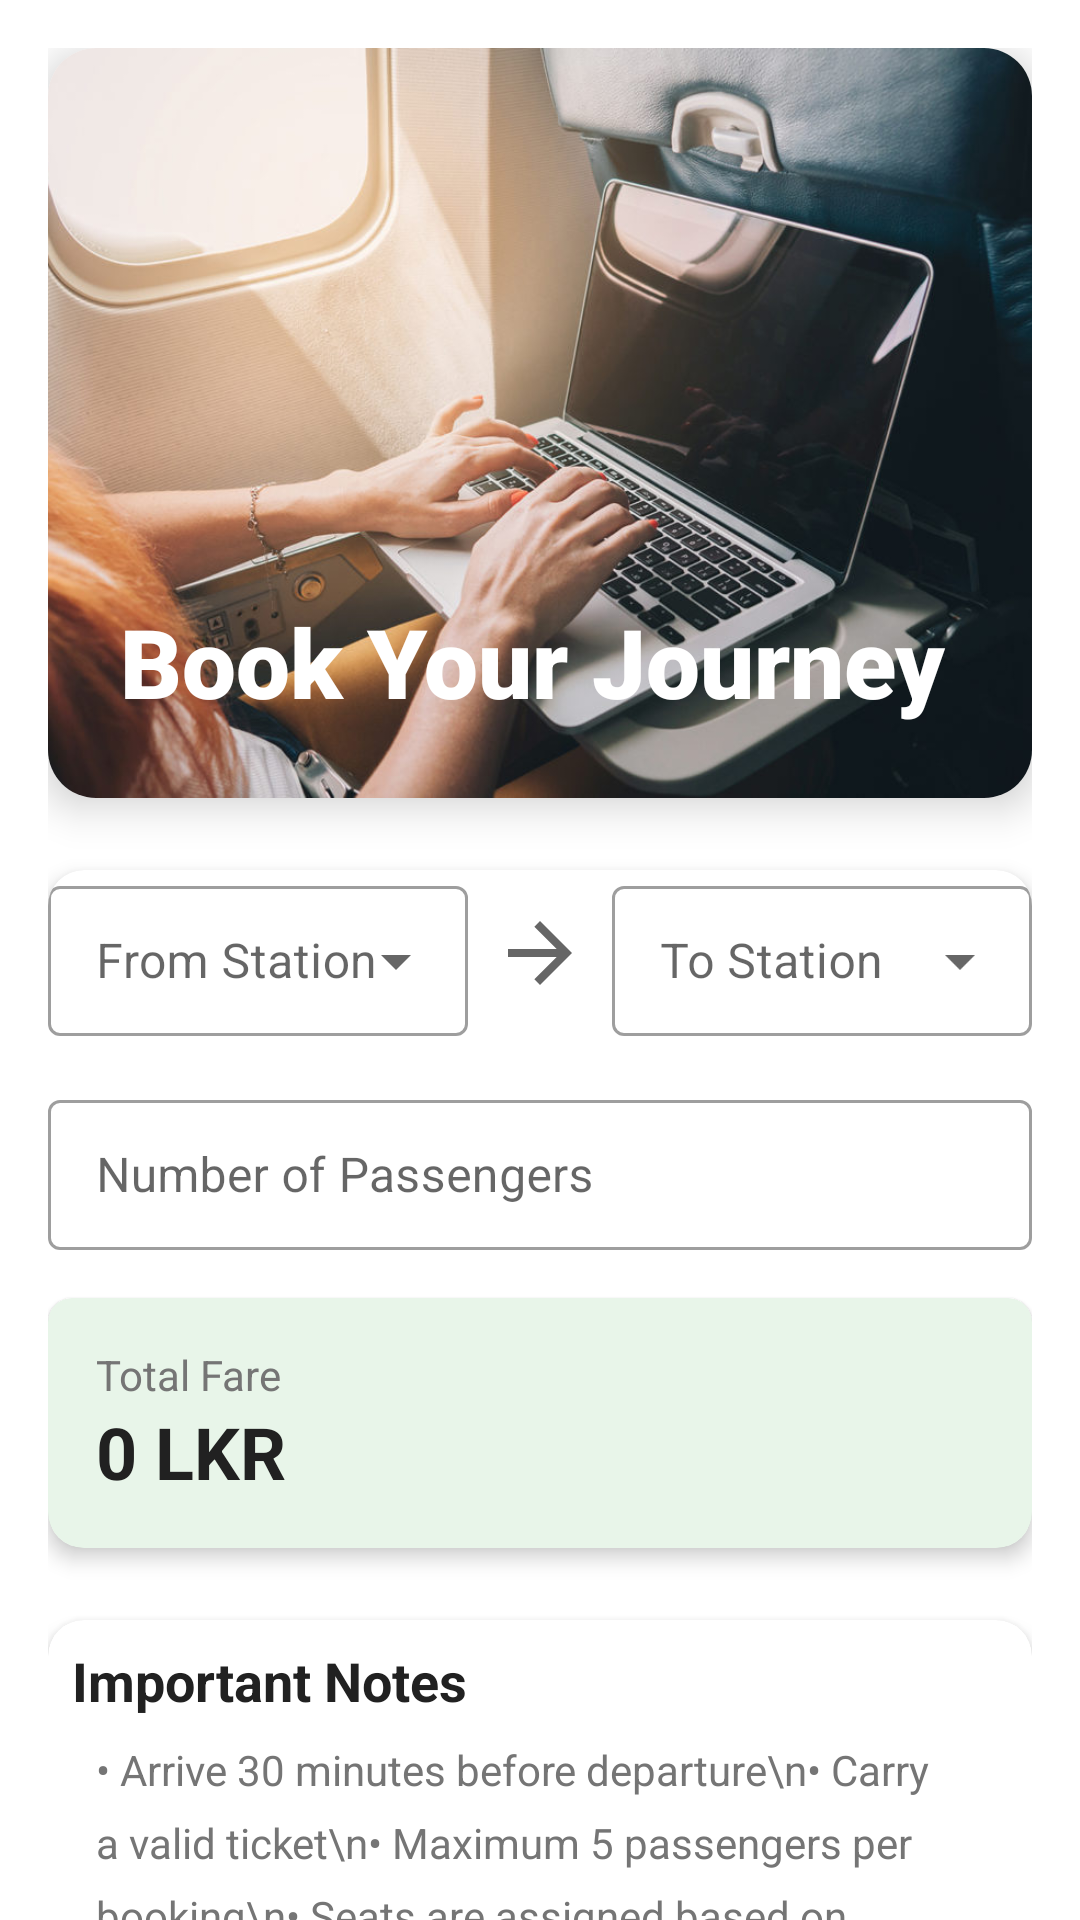

Locate icon controls on the screen. Image size 1080 × 1920, boxes as (x1, y1, x2, y2).
Travel direction: (508, 921, 572, 985)
